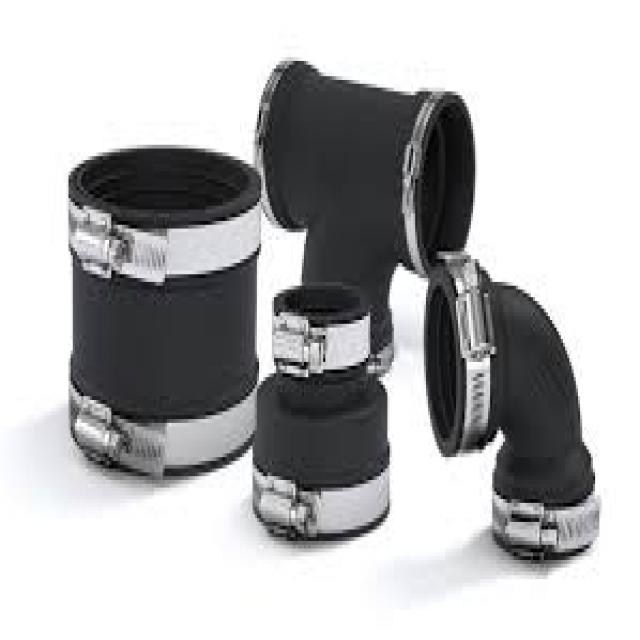Rubber -Non-Biodegradable but Recyclable-: (60, 54, 620, 562)
